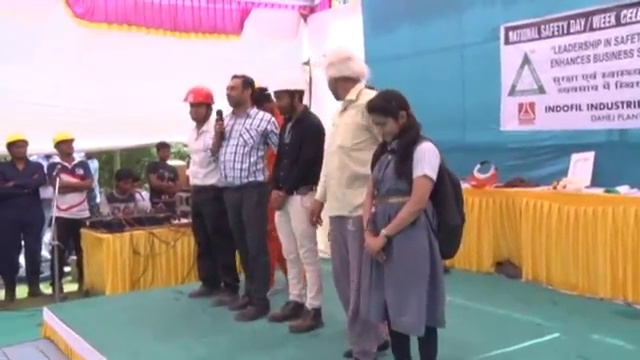helmet: (265, 73, 307, 94), (180, 85, 215, 107), (3, 133, 29, 149), (51, 132, 75, 149)
helmet_off: (354, 87, 415, 148), (319, 47, 370, 102), (223, 74, 254, 111), (111, 166, 139, 197), (251, 87, 277, 117), (153, 142, 170, 165)
helmet_on: (265, 73, 307, 119), (180, 84, 215, 126), (3, 133, 29, 165), (50, 132, 75, 162)
person: (358, 82, 465, 360), (318, 43, 386, 359), (264, 72, 327, 336), (212, 75, 280, 316), (178, 85, 240, 308), (43, 132, 100, 301), (0, 131, 45, 312), (97, 163, 154, 226), (143, 142, 183, 219)
